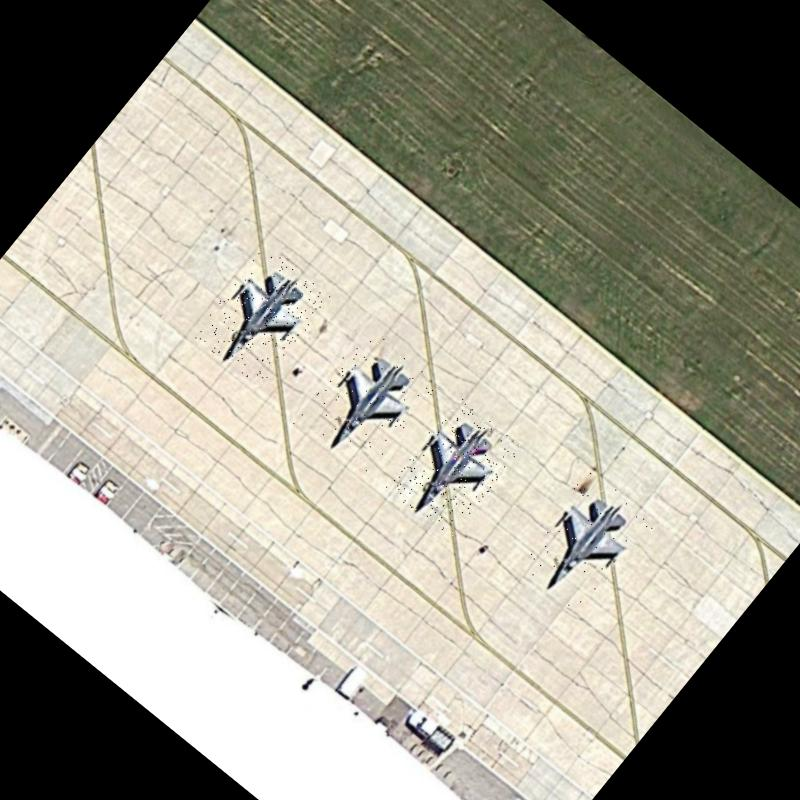A5: (511, 467, 661, 622), (289, 326, 439, 480), (384, 395, 524, 540), (192, 244, 332, 388)
